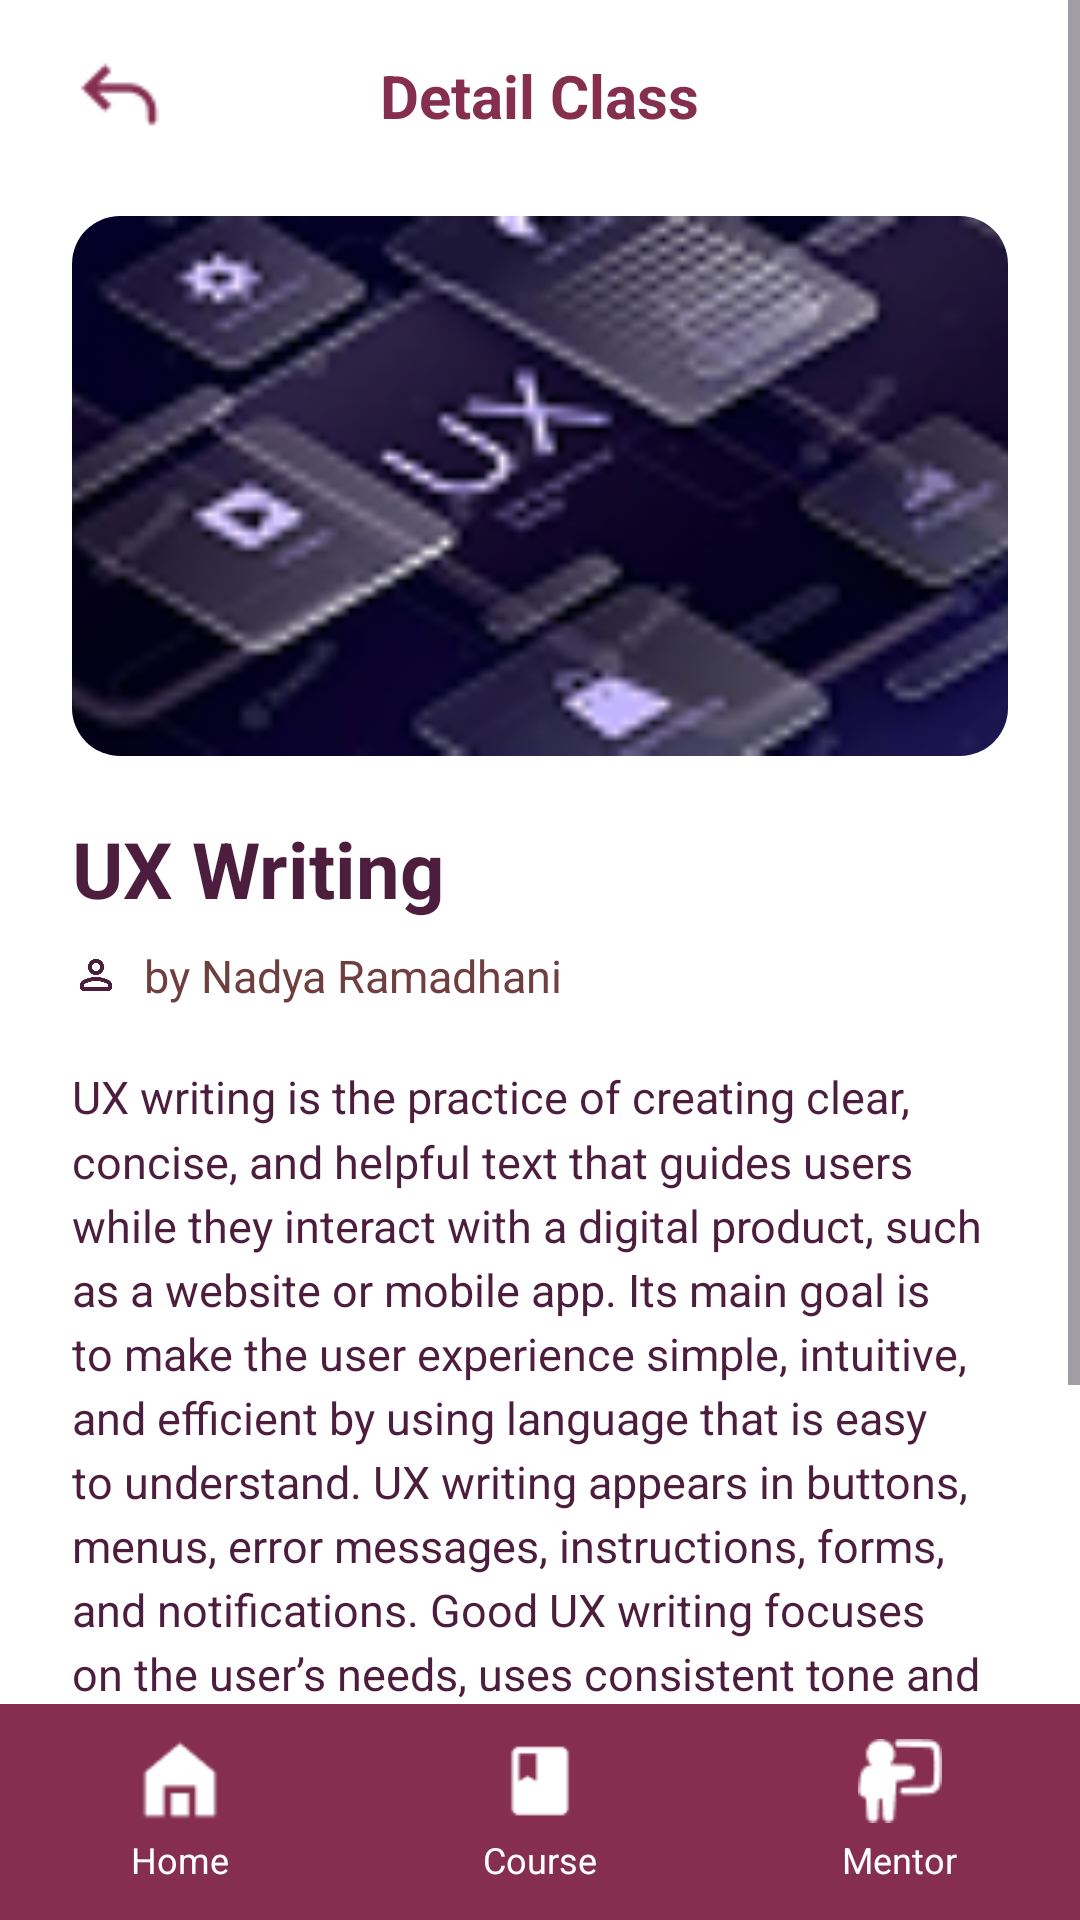

Icon click points for this 1080 × 1920 phone screenshot, format point (x, y):
back: point (120, 94)
